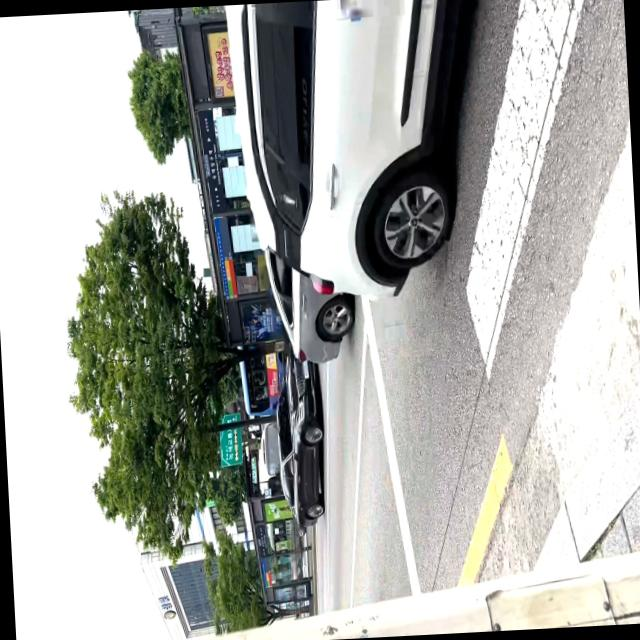car: (236, 0, 470, 307), (264, 241, 358, 366), (271, 342, 329, 534)
